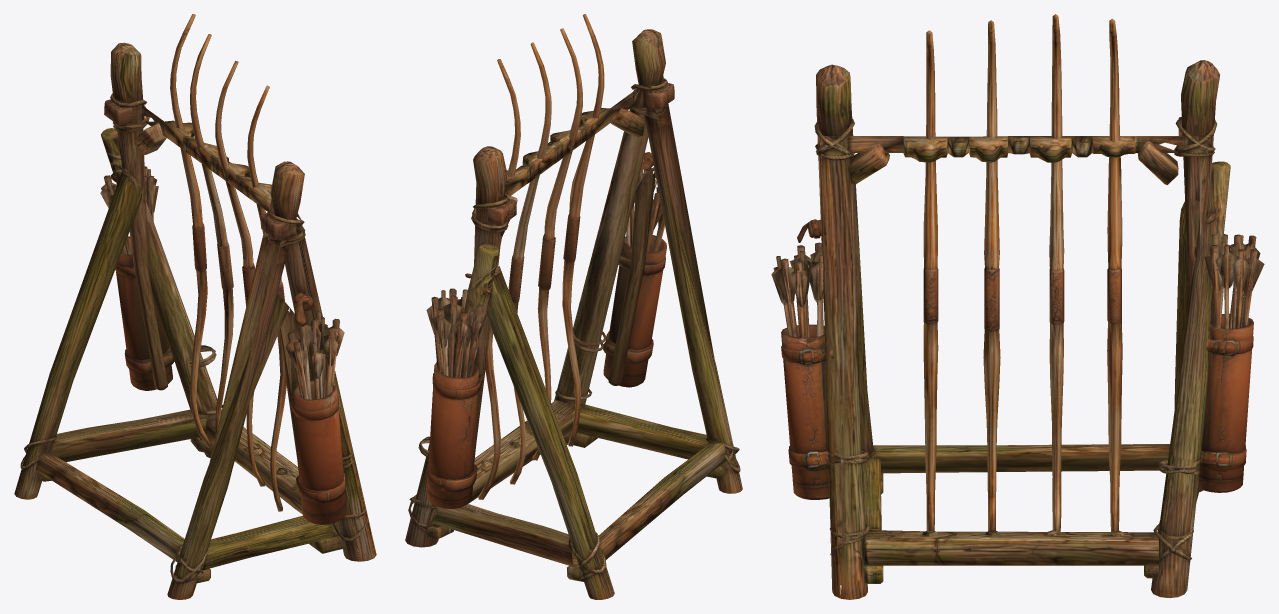
The model's file is SM_Env_SherwoodBowRack.fbx.
The picture shows the model from 3 angles, left to right: view 1: azimuth 30°, elevation 25°; view 2: azimuth 150°, elevation 25°; view 3: azimuth 270°, elevation 25°; orthographic projection. The views are drawn at different scales.
Visible parts, largest first — view 1: SM_Env_SherwoodBowRack; view 2: SM_Env_SherwoodBowRack; view 3: SM_Env_SherwoodBowRack.
Part boxes in pixels (bbox=[...]): SM_Env_SherwoodBowRack: bbox=[14, 14, 376, 599]; SM_Env_SherwoodBowRack: bbox=[405, 14, 742, 599]; SM_Env_SherwoodBowRack: bbox=[771, 14, 1264, 599].
Size of the model in its own units: 25.35 by 44.29 by 54.
1 material, 1 textured.
